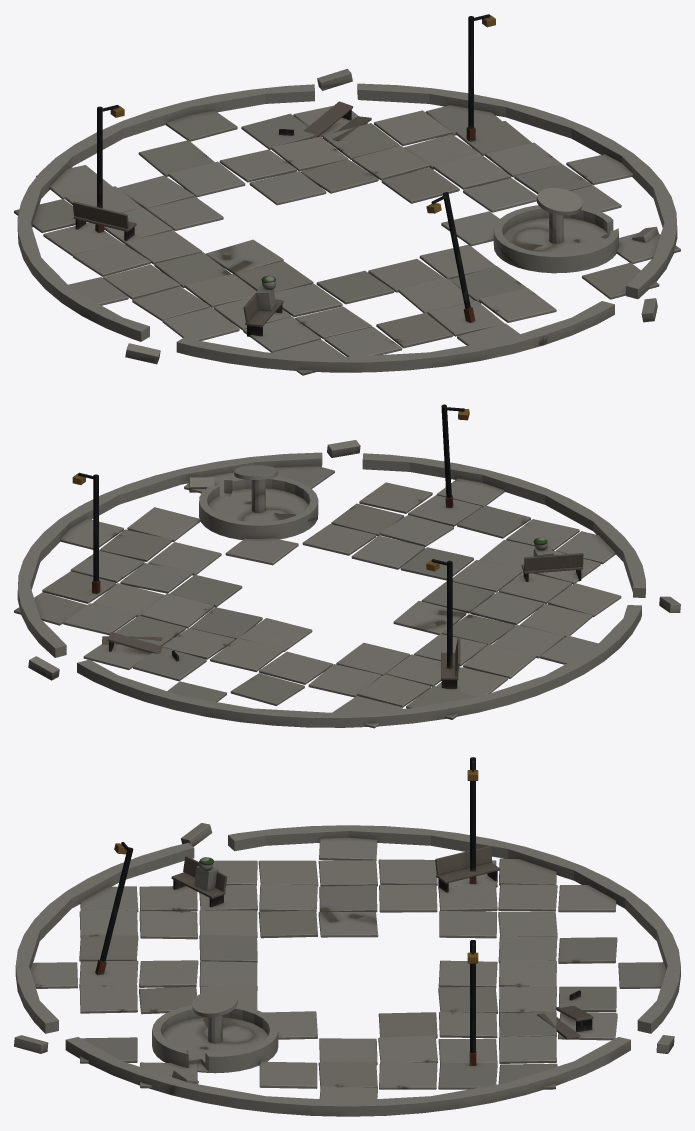
The model's file is praca.glb.
The picture shows the model from 3 angles, top to bottom: view 1: azimuth 30°, elevation 25°; view 2: azimuth 150°, elevation 25°; view 3: azimuth 270°, elevation 25°; orthographic projection. The views are drawn at different scales.
Visible parts, largest first — view 1: g_praca; view 2: g_praca; view 3: g_praca.
Part boxes in pixels (x1=…): g_praca: x1=14, y1=14, x2=680, y2=375; g_praca: x1=14, y1=404, x2=680, y2=728; g_praca: x1=14, y1=757, x2=680, y2=1116.
Bounding box in the file's own units: 20.28 × 4.41 × 20.05.
Materials: 1 (1 with a texture image).
